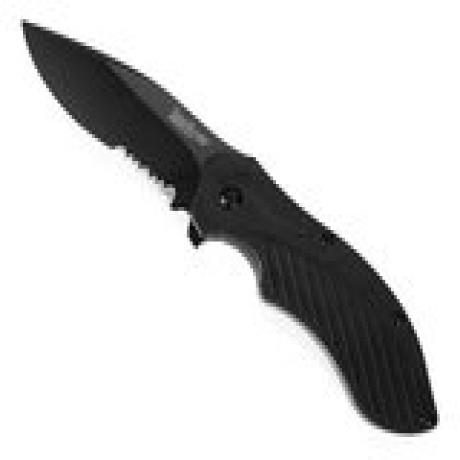weapon: (17, 13, 440, 439)
